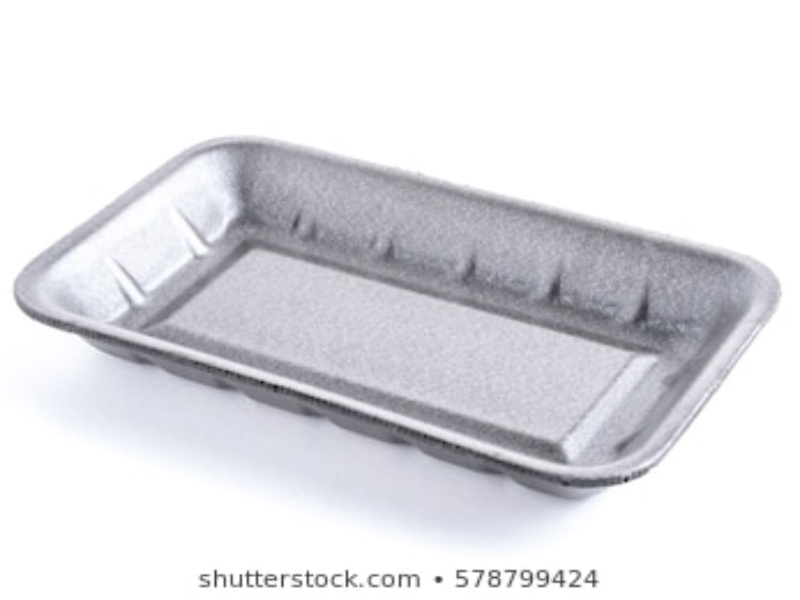plastic-tray: (18, 137, 782, 502)
